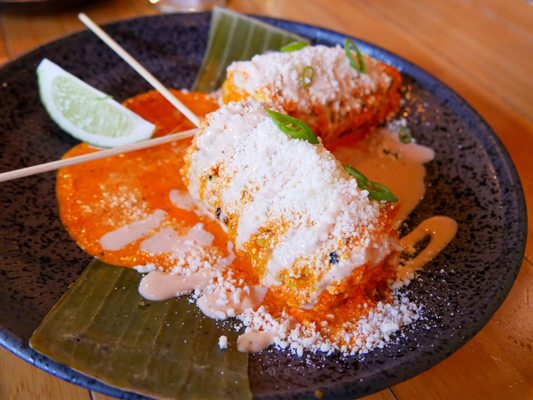curry: (22, 0, 532, 400)
